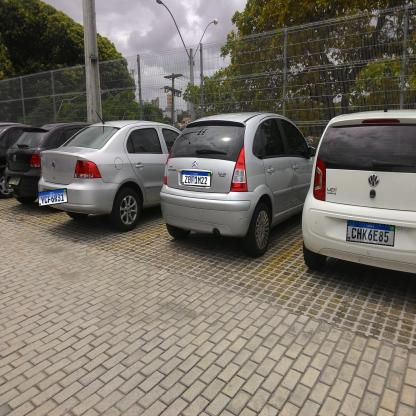PlacaM: (346, 220, 395, 246), (38, 188, 67, 207), (182, 170, 211, 187)
